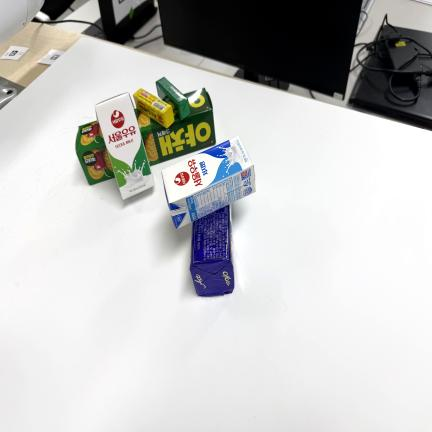cracker_ace: (190, 205, 234, 296)
cracker_vege: (133, 89, 216, 165), (77, 118, 116, 186)
gum_green: (156, 77, 190, 120)
gum_yellow: (133, 89, 174, 128)
milk_blue: (162, 136, 255, 228)
milk_green: (95, 93, 154, 199)
